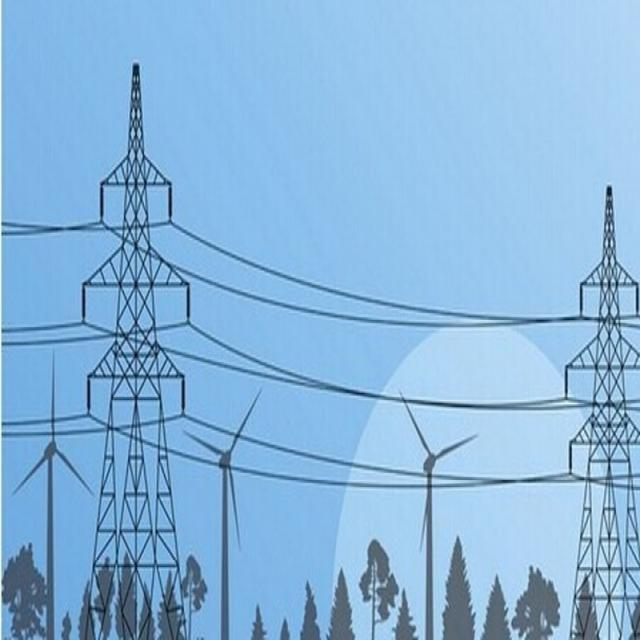non-critical vegetation: (80, 52, 193, 619), (568, 178, 635, 629)
